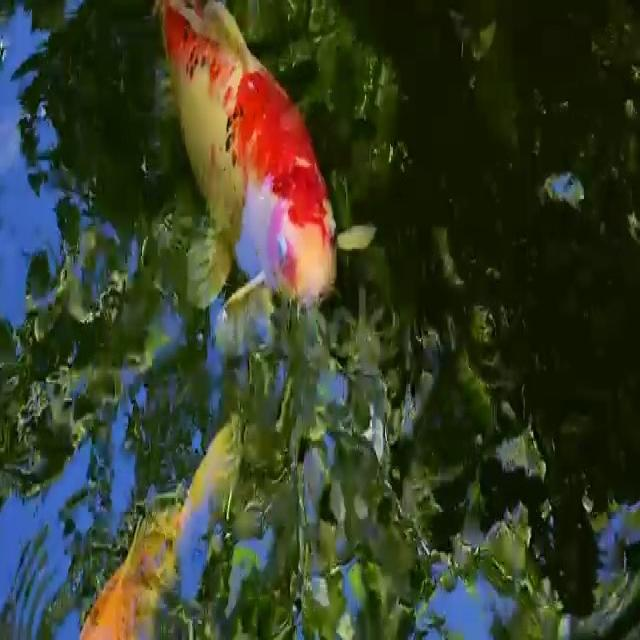fish: (146, 1, 377, 338), (84, 417, 250, 640)
